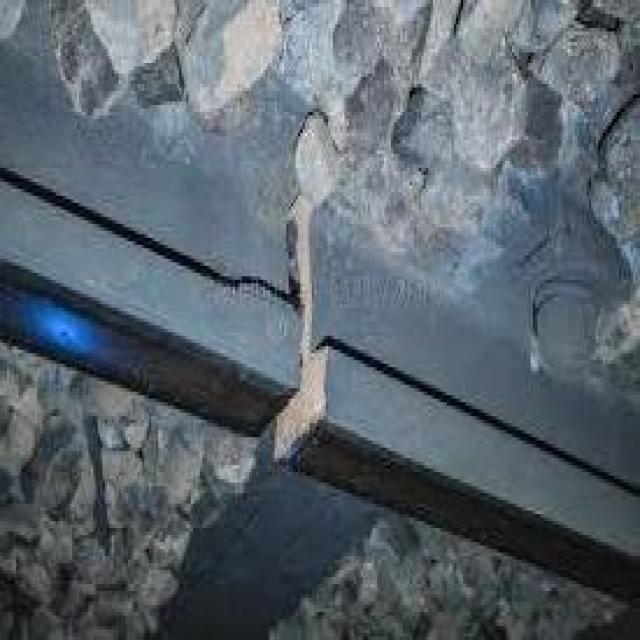broken_rail_high: (270, 204, 336, 476)
